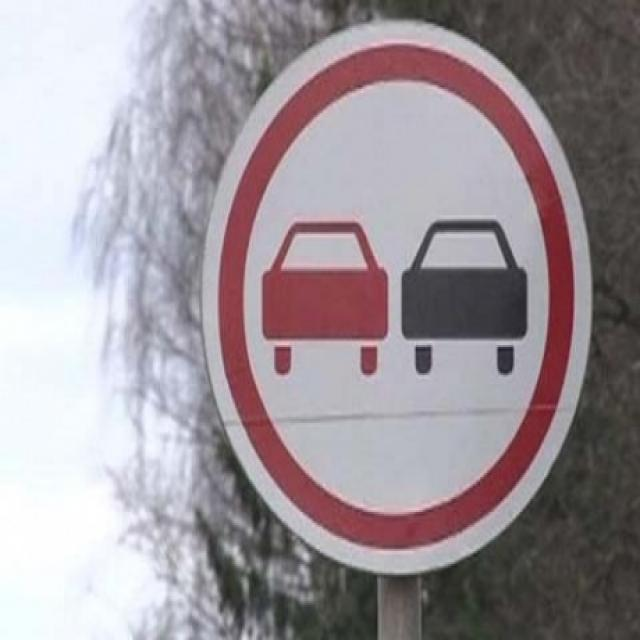no overtaking: (204, 15, 602, 582)
